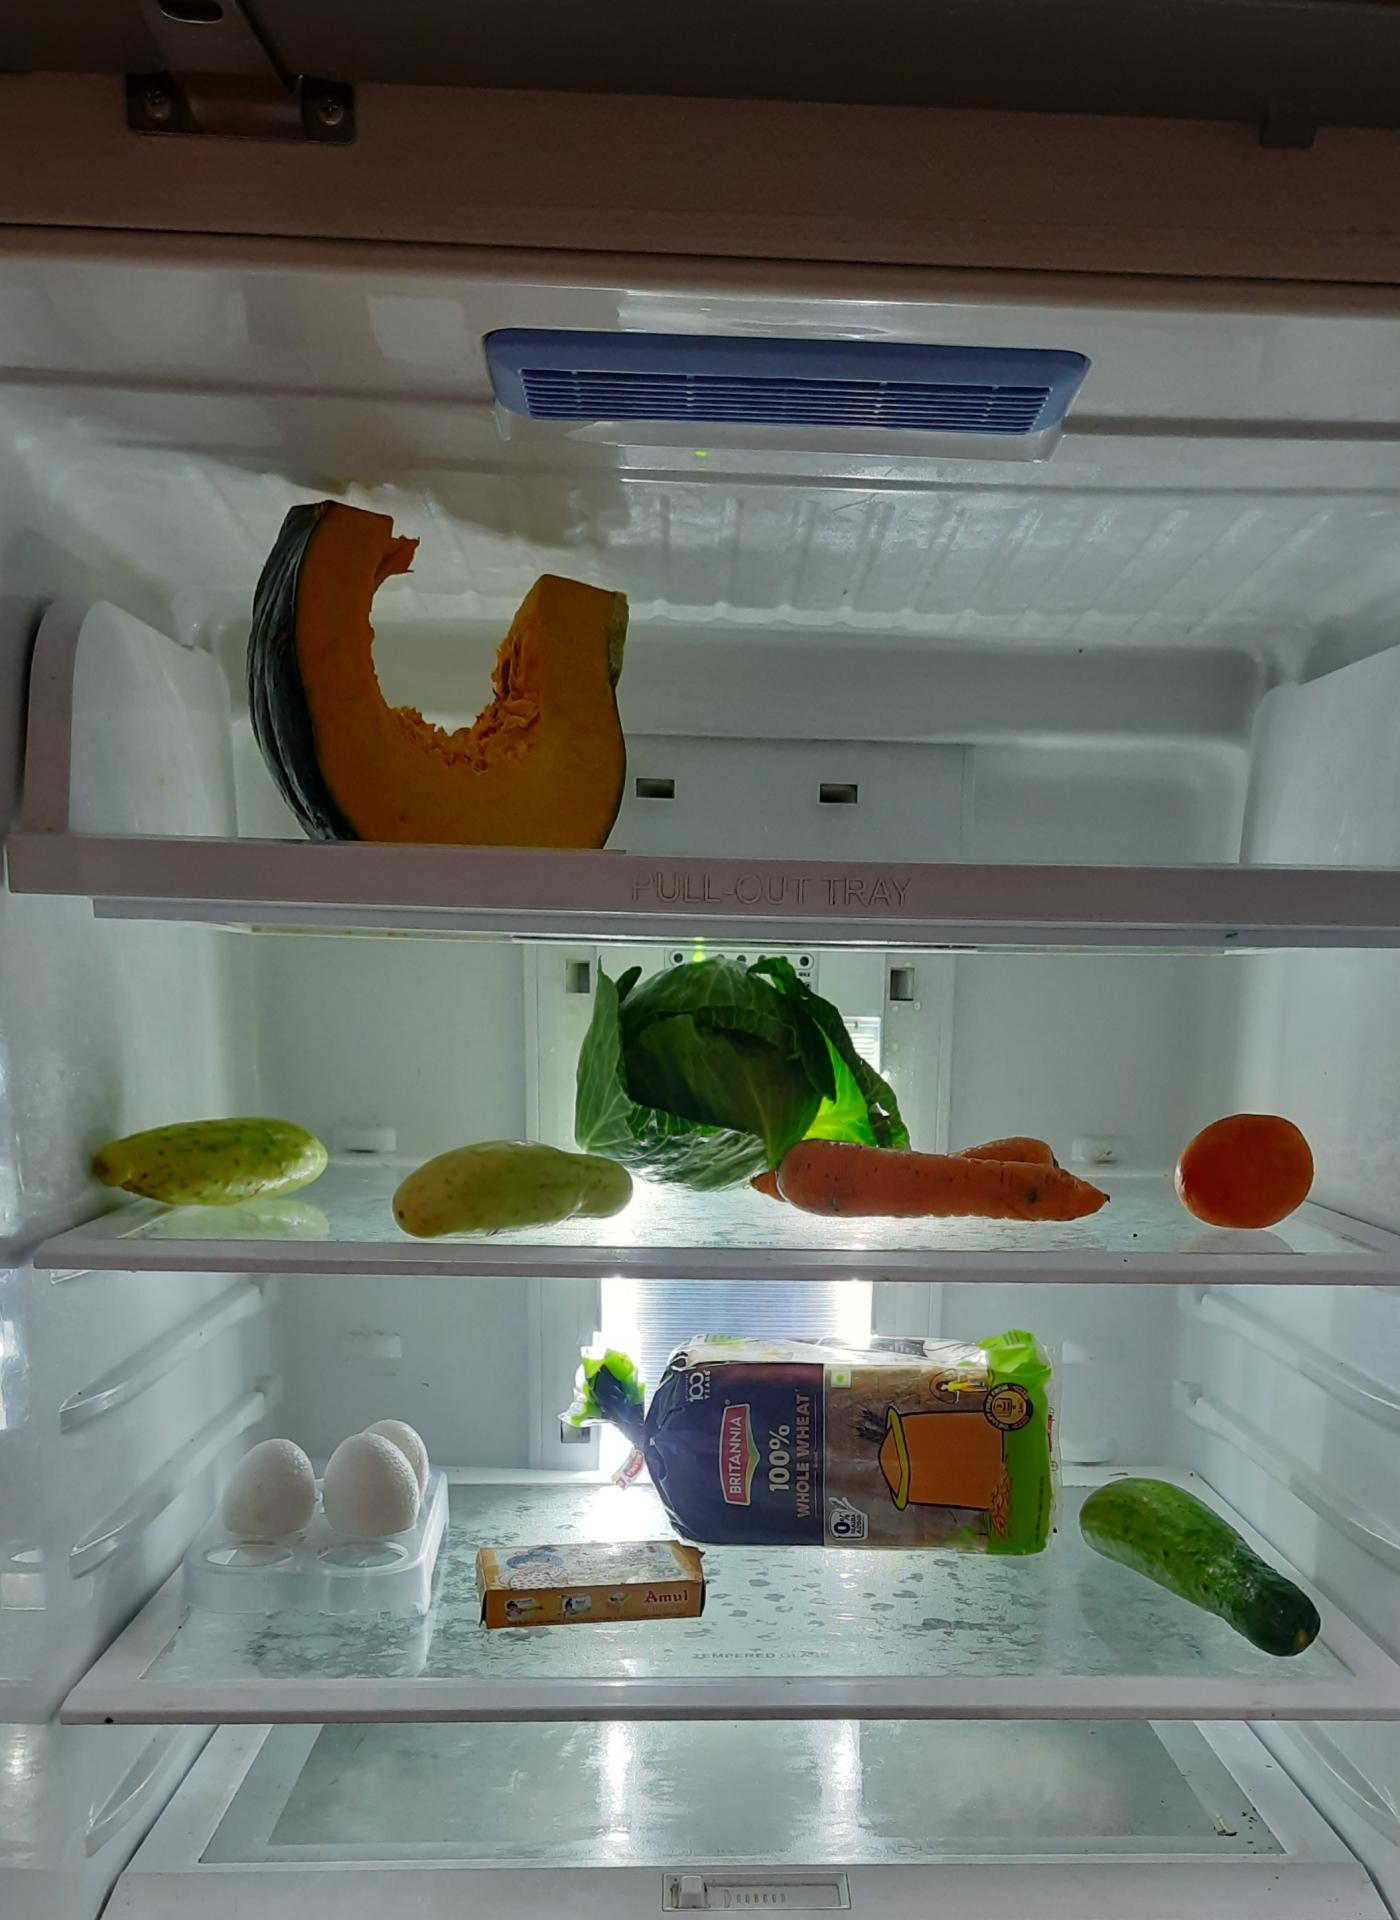bread: (620, 1345, 1066, 1558)
butter: (479, 1531, 716, 1631)
cabbage: (578, 956, 901, 1184)
carrots: (741, 1127, 1106, 1213)
cucumber: (1071, 1480, 1336, 1665), (391, 1137, 638, 1234), (86, 1114, 329, 1206)
egg: (222, 1425, 429, 1550)
pumpkin: (249, 495, 652, 851)
tomato: (1170, 1108, 1318, 1231)
